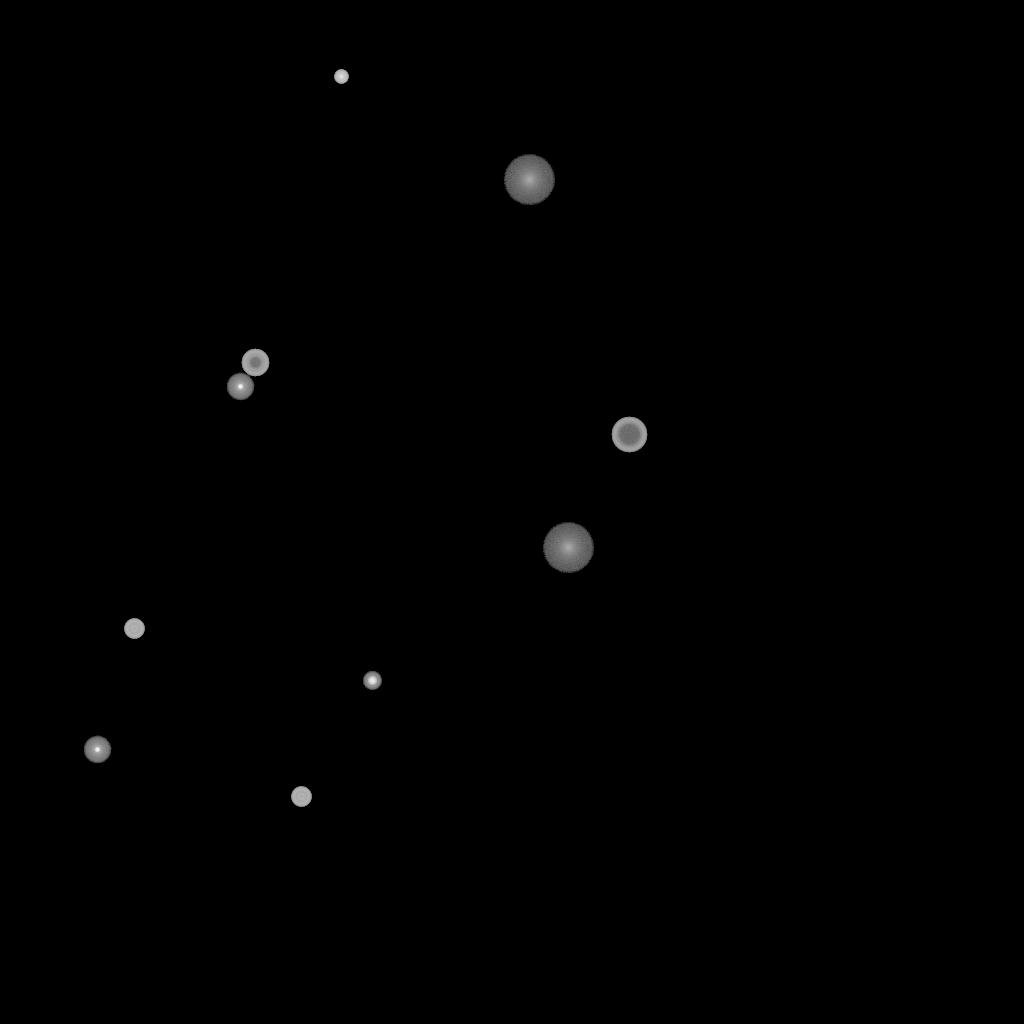depth:-10: (226, 373, 254, 401), (83, 736, 111, 764)
depth:-20: (363, 672, 381, 690)
depth:-30: (334, 70, 348, 84)
depth:-40: (124, 619, 144, 639), (291, 787, 311, 807)
depth:-50: (241, 349, 269, 377)
depth:-60: (611, 417, 647, 453)
depth:20: (542, 523, 594, 573), (503, 155, 555, 205)
